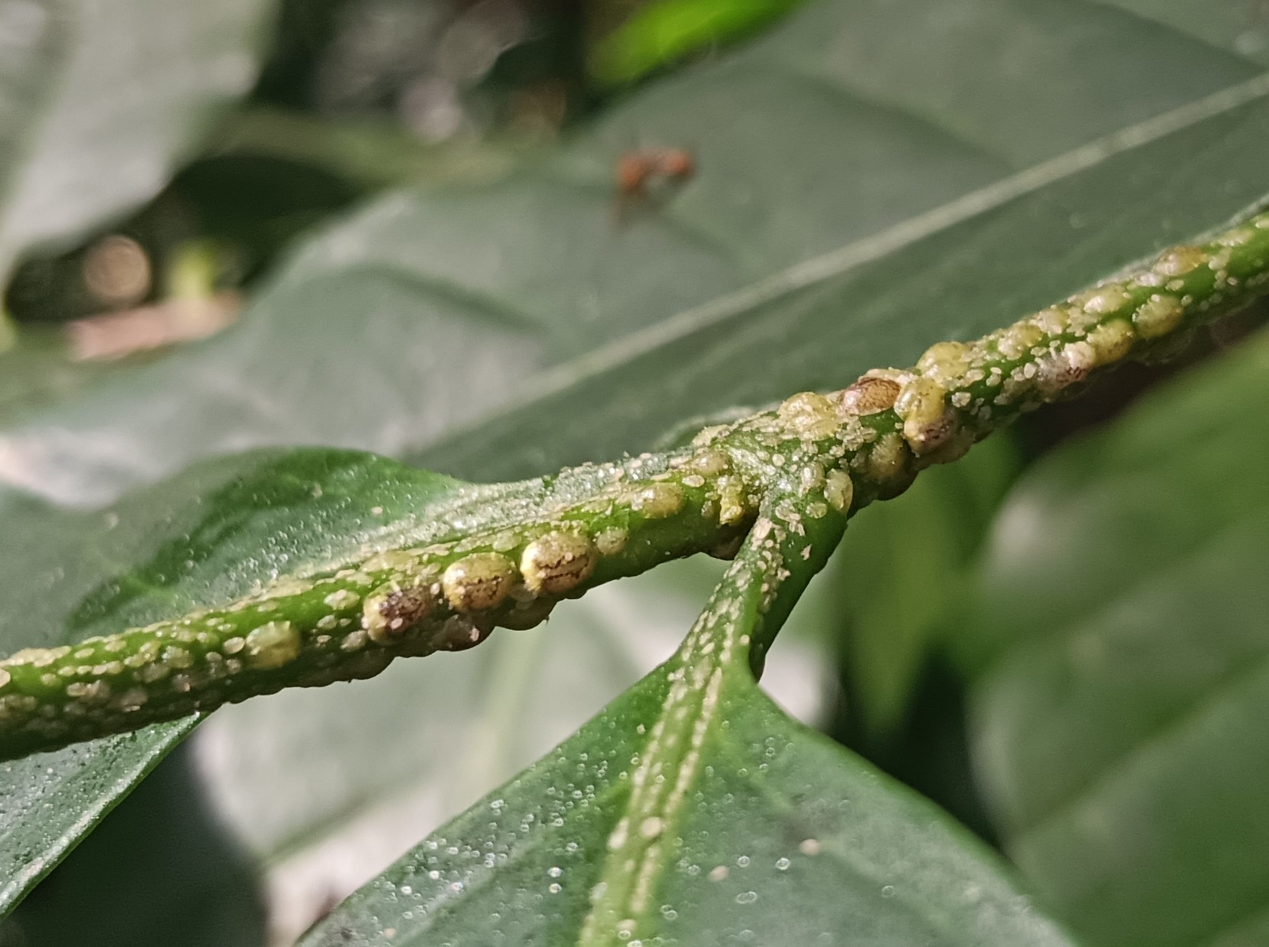Scale_Insect: (521, 532, 598, 593), (443, 553, 517, 613), (364, 581, 432, 641), (1034, 344, 1096, 393), (245, 622, 300, 667), (839, 376, 900, 416), (894, 376, 945, 423), (1088, 321, 1133, 366), (869, 433, 908, 483), (1136, 296, 1183, 337), (635, 481, 683, 516), (786, 410, 841, 439), (1083, 282, 1129, 314), (1155, 245, 1203, 274), (917, 342, 966, 367), (779, 391, 828, 415), (827, 470, 853, 511), (922, 359, 965, 383), (1009, 323, 1041, 346), (598, 529, 627, 554), (698, 451, 729, 474), (717, 476, 744, 496), (800, 464, 823, 487)
